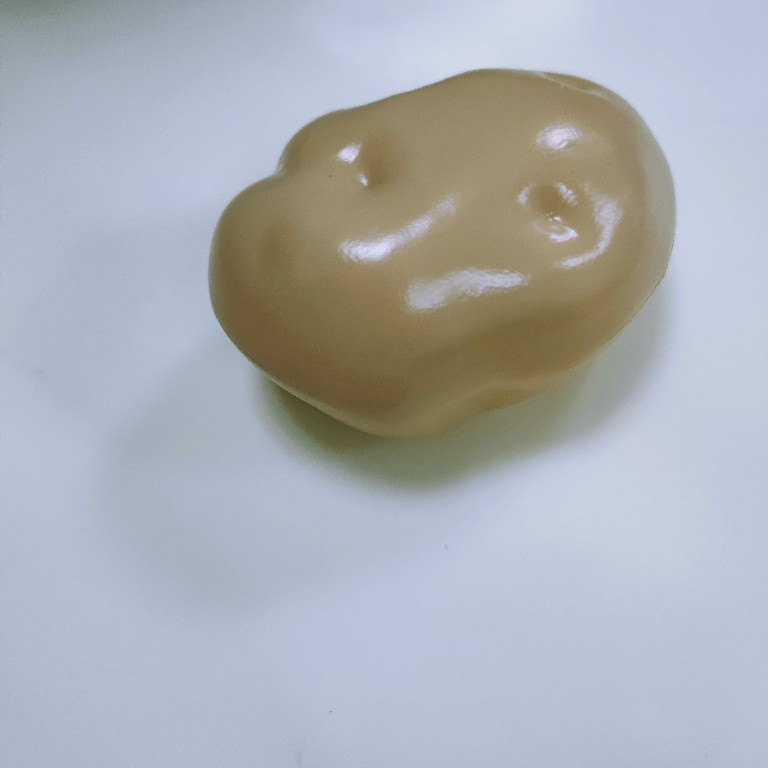fruit_potato: (203, 62, 679, 444)
